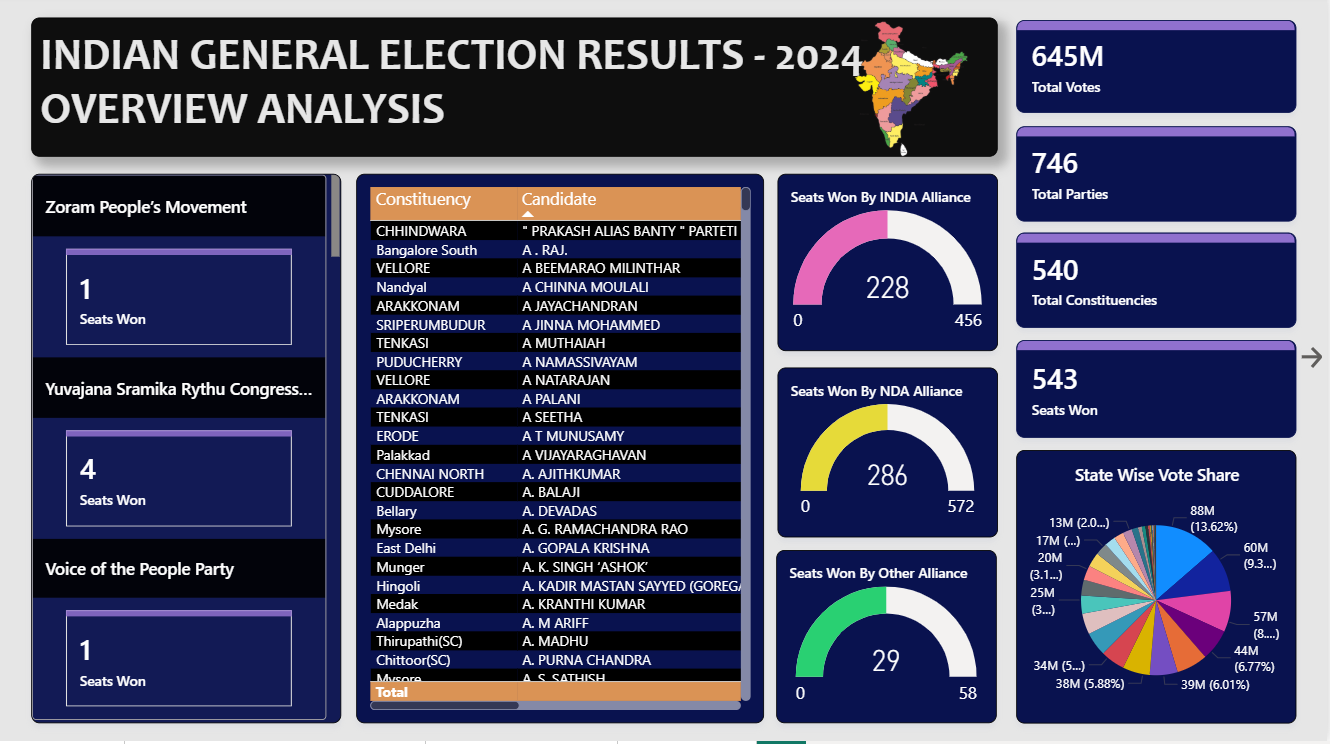

The page's visual inventory and layout, read from the dashboard file:
{"tool":"powerbi","page":{"name":"Overview analysis","canvas":[1280,720],"ordinal":0},"visuals":[{"type":"cardVisual","title":"Win Percentage","fields":{"Data":["Sum(GE_2024_Results.Total Votes)"]},"box":[980.8,24.1,270.2,89.3],"z":0},{"type":"cardVisual","title":"Win Percentage","fields":{"Data":["GE_2024_Results.Seats Won"]},"box":[980.8,333,270.2,94.1],"z":1000},{"type":"textbox","box":[30.6,22,933,134.5],"z":2000},{"type":"image","box":[796.3,25.3,166.5,130.3],"z":3000},{"type":"cardVisual","fields":{"Data":["GE_2024_Results.Seats Won"],"Rows":["GE_2024_Results.Party"]},"box":[30.6,172.4,299.6,530.7],"z":4000},{"type":"pieChart","title":"State Wise Vote Share","fields":{"Y":["Sum(GE_2024_Results.Total Votes)"],"Category":["GE_2024_Results.State"]},"box":[980.8,439.1,270.2,264.2],"z":5000},{"type":"tableEx","fields":{"Values":["GE_2024_Results.Constituency","GE_2024_Results.Candidate","GE_2024_Results.Party","Sum(GE_2024_Results.Total Votes)","GE_2024_Results.Result"]},"box":[343.6,172.4,393.8,530.7],"z":6000},{"type":"cardVisual","title":"Win Percentage","fields":{"Data":["Count(GE_2024_Results.Party)"]},"box":[980.8,126.7,270.2,91.7],"z":7000},{"type":"cardVisual","title":"Win Percentage","fields":{"Data":["Count(GE_2024_Results.Constituency)"]},"box":[980.8,229.2,270.2,91.7],"z":8000},{"type":"gauge","title":"Seats Won By Other Alliance","fields":{"Y":["GE_2024_Results.Seats Won"]},"box":[749.2,535.2,212.7,167.4],"z":9000},{"type":"gauge","title":"Seats Won By NDA Alliance","fields":{"Y":["GE_2024_Results.Seats Won"]},"box":[750.8,359.5,212.8,163.9],"z":10000},{"type":"gauge","title":"Seats Won By INDIA Alliance","fields":{"Y":["GE_2024_Results.Seats Won"]},"box":[750.8,172.4,212.8,171.2],"z":11000},{"type":"actionButton","box":[1251.1,330.6,29,39],"z":12000}]}

Visuals, with their boxes in screenshot pixels (x1, y1, x2, y2), scaled from the page's 1280x720 canvas onto the 1330x744 screenshot:
"Win Percentage" cardVisual: (left=1019, top=25, right=1300, bottom=117)
"Win Percentage" cardVisual: (left=1019, top=344, right=1300, bottom=441)
textbox: (left=32, top=23, right=1001, bottom=162)
image: (left=827, top=26, right=1000, bottom=161)
cardVisual - GE_2024_Results.Seats Won x GE_2024_Results.Party: (left=32, top=178, right=343, bottom=727)
"State Wise Vote Share" pieChart: (left=1019, top=454, right=1300, bottom=727)
tableEx - GE_2024_Results.Constituency x GE_2024_Results.Candidate: (left=357, top=178, right=766, bottom=727)
"Win Percentage" cardVisual: (left=1019, top=131, right=1300, bottom=226)
"Win Percentage" cardVisual: (left=1019, top=237, right=1300, bottom=332)
"Seats Won By Other Alliance" gauge: (left=778, top=553, right=999, bottom=726)
"Seats Won By NDA Alliance" gauge: (left=780, top=371, right=1001, bottom=541)
"Seats Won By INDIA Alliance" gauge: (left=780, top=178, right=1001, bottom=355)
actionButton: (left=1300, top=342, right=1329, bottom=382)
